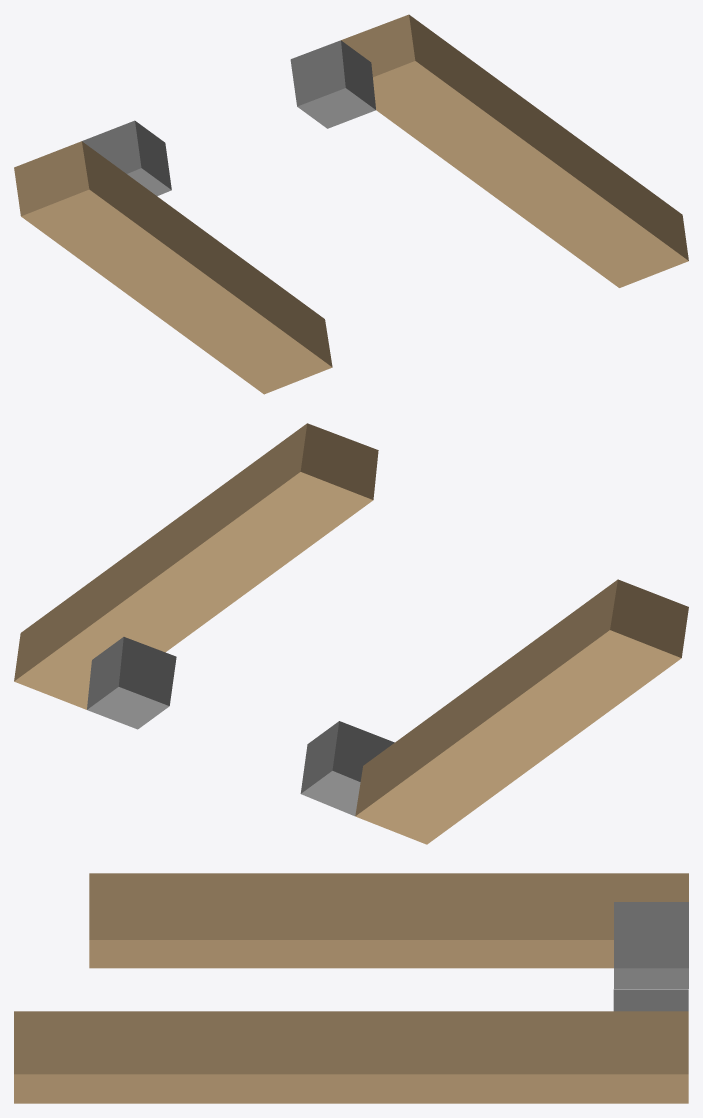
3 renders of one model, top to bottom at view 1: azimuth 30°, elevation 25°; view 2: azimuth 150°, elevation 25°; view 3: azimuth 270°, elevation 25°, orthographic. The views are drawn at different scales.
Parts seen in each view (by area): view 1: 0_1_3_2_1_1_1_3_3_2; view 2: 0_1_3_2_1_1_1_3_3_2; view 3: 0_1_3_2_1_1_1_3_3_2.
Boxes of the visible parts, x1,y1,x2,y2 form: 0_1_3_2_1_1_1_3_3_2: (14, 14, 688, 394); 0_1_3_2_1_1_1_3_3_2: (14, 423, 688, 844); 0_1_3_2_1_1_1_3_3_2: (14, 873, 688, 1103).
Size of the model in its own units: 22.86 by 5.85 by 27.01.
